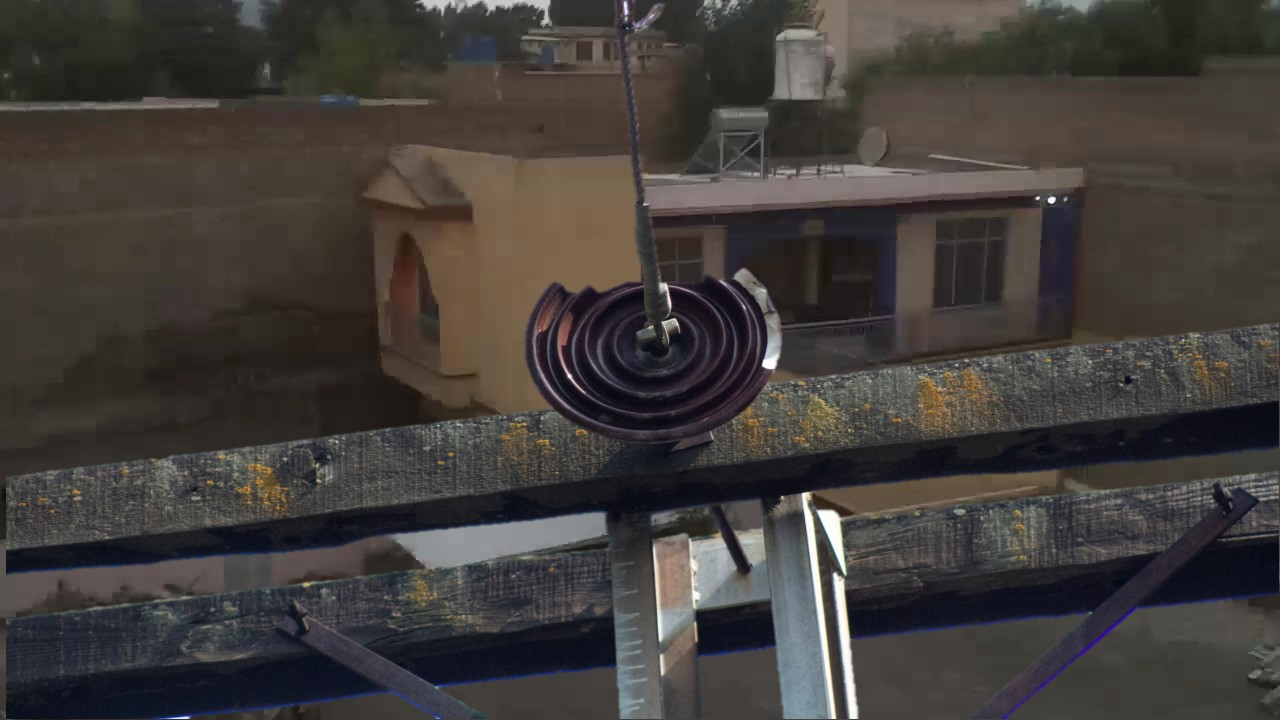defect_disc: (520, 257, 794, 444)
